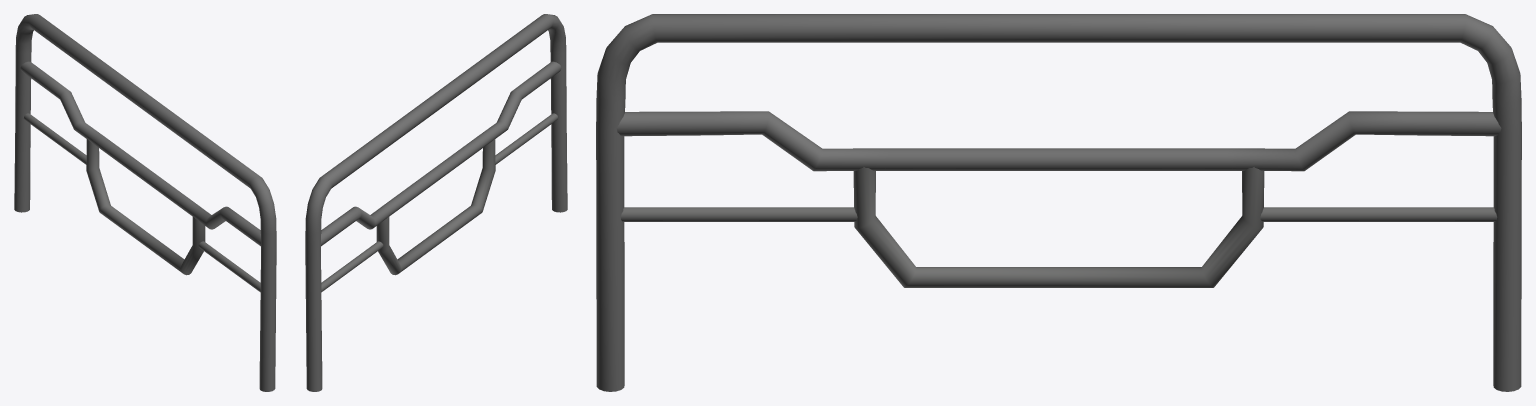
Rendered from fut-guarda-corpo.gltf.
3 views of the same model, side by side, from view 1: azimuth 30°, elevation 25°; view 2: azimuth 150°, elevation 25°; view 3: azimuth 270°, elevation 25° (orthographic). The views are drawn at different scales.
Visible parts, largest first — view 1: Prop_Rail_2; view 2: Prop_Rail_2; view 3: Prop_Rail_2.
Boxes of the visible parts, left/top/right/bottom form: Prop_Rail_2: left=14, top=14, right=276, bottom=391; Prop_Rail_2: left=305, top=14, right=567, bottom=391; Prop_Rail_2: left=596, top=14, right=1521, bottom=391.
Bounding box in the file's own units: 0.0333 × 0.431 × 0.9732.
Materials: 1 (1 with a texture image).
